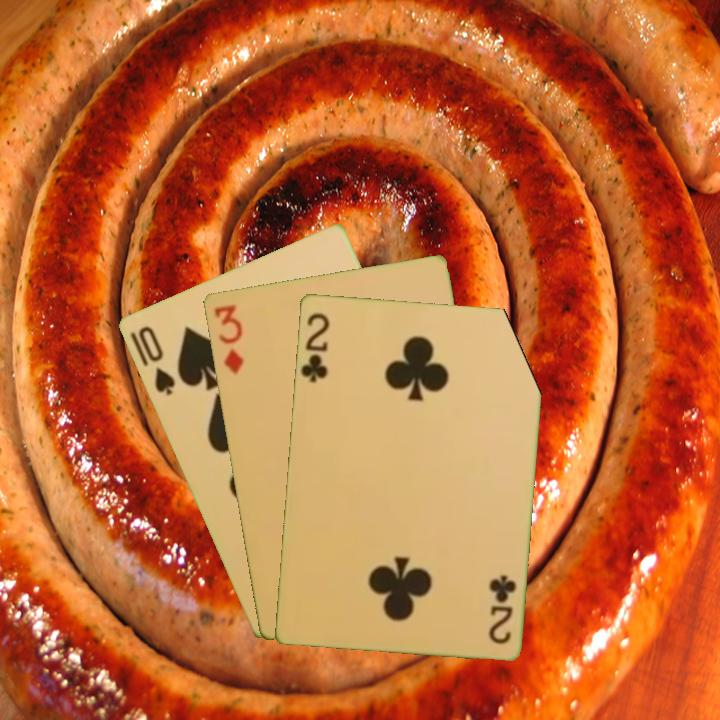10s: (134, 322, 178, 398)
2c: (297, 309, 332, 385), (485, 571, 519, 646)
3d: (210, 300, 246, 377)
